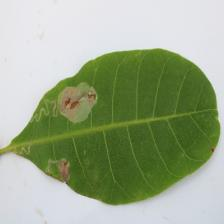leaf miner: (0, 47, 221, 206)
